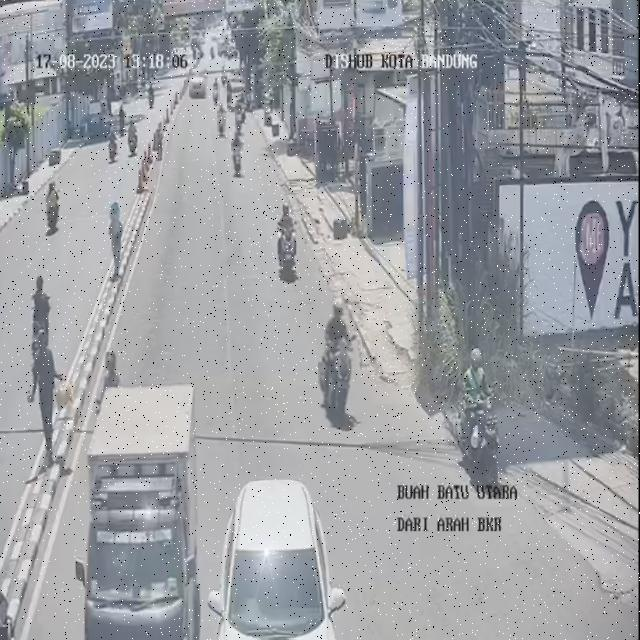cars: (207, 481, 337, 639), (190, 69, 207, 97)
motorcycle: (454, 350, 501, 492), (318, 297, 357, 427), (277, 203, 296, 279), (97, 352, 123, 403), (232, 131, 243, 177), (238, 92, 247, 124), (236, 101, 244, 135), (218, 101, 225, 138), (213, 78, 219, 105), (221, 66, 226, 87), (228, 80, 231, 109)
truck: (85, 384, 199, 640)
